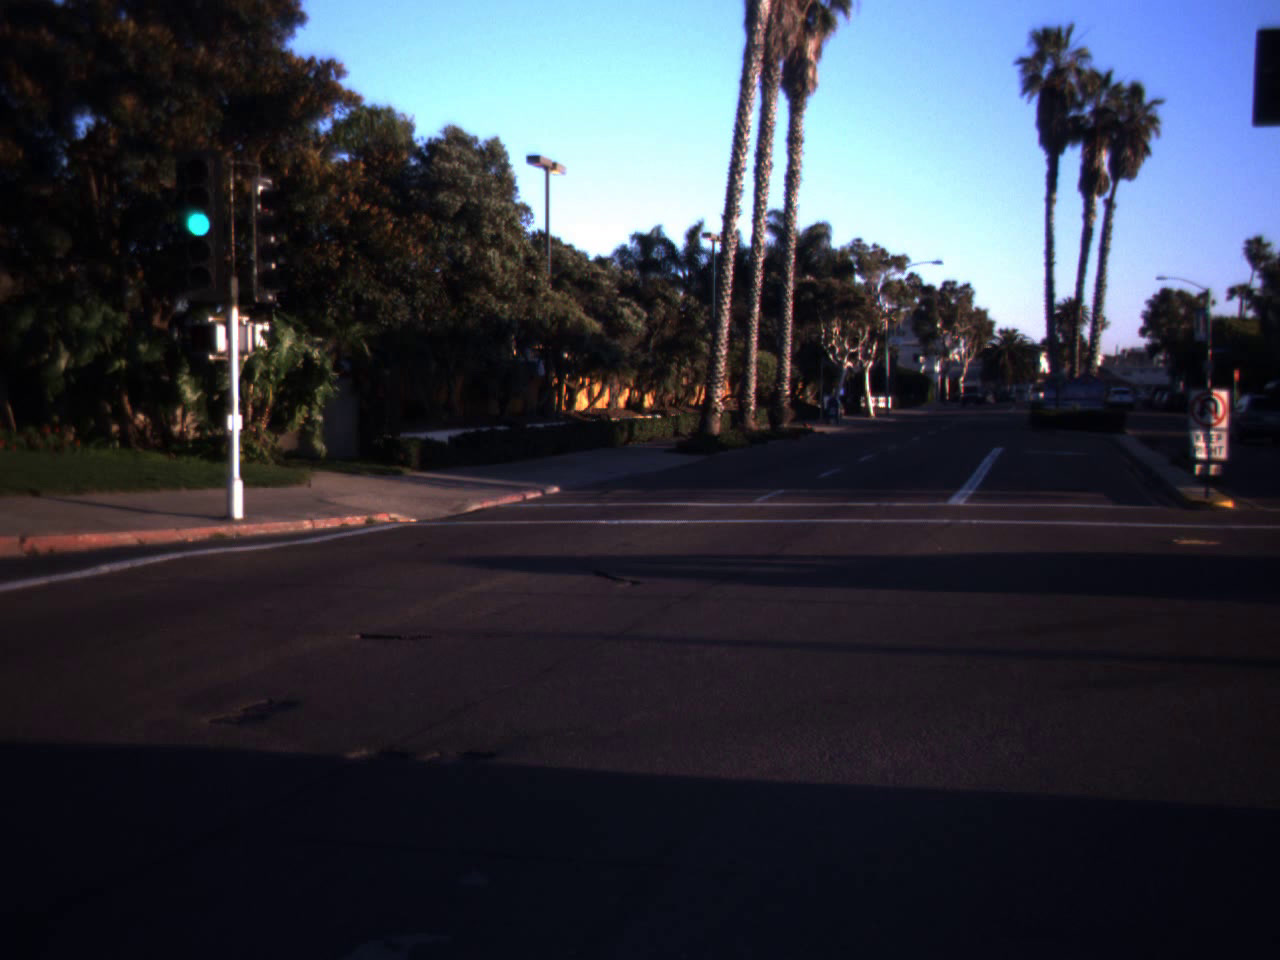go: (167, 140, 230, 245)
